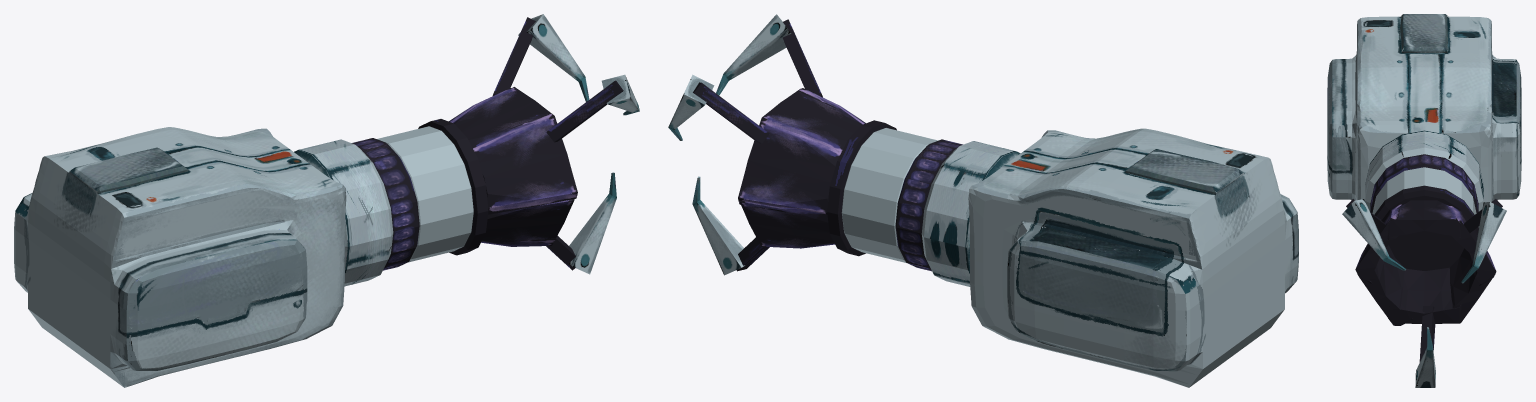
File: robot.fbx
3 views of the same model, side by side, from view 1: azimuth 30°, elevation 25°; view 2: azimuth 150°, elevation 25°; view 3: azimuth 270°, elevation 25° (orthographic). The views are drawn at different scales.
Visible parts, largest first — view 1: Cube, Cylinder.002, Plane.007, Cylinder, Cylinder.001, Plane.003, Plane.005, Cylinder.005, Cube.006, Cube.002, claw.001, claw (+1 smaller); view 2: Cube, Cylinder.002, Cylinder, Plane.004, Cylinder.001, Plane.003, Plane.006, Cylinder.005, Cube.005, Cube.006, claw, Cube.002 (+1 smaller); view 3: Cube, Cylinder.005, Cylinder, Plane.008, Plane.003, Cylinder.002, Plane.005, Cylinder.001, Plane.006, Cube.005, Cube.002, Plane.004 (+4 smaller).
Boxes of the visible parts, x1,y1,x2,y2 form: Cube: (14, 127, 346, 387); Cylinder.002: (377, 126, 473, 262); Plane.007: (473, 113, 577, 214); Cylinder: (294, 139, 393, 286); Cylinder.001: (351, 138, 419, 270); Plane.003: (453, 87, 557, 148); Plane.005: (481, 199, 574, 246); Cylinder.005: (418, 119, 488, 255); Cube.006: (569, 172, 616, 274); Cube.002: (518, 14, 589, 101); claw.001: (546, 80, 623, 142); claw: (492, 17, 535, 95); Cube: (968, 128, 1298, 387); Cylinder.002: (841, 128, 937, 262); Cylinder: (921, 141, 1020, 286); Plane.004: (738, 121, 841, 214); Cylinder.001: (895, 139, 962, 271); Plane.003: (760, 88, 862, 152); Plane.006: (739, 200, 834, 248); Cylinder.005: (827, 120, 896, 256); Cube.005: (716, 14, 791, 95); Cube.006: (692, 176, 744, 275); claw: (693, 82, 769, 143); Cube.002: (668, 74, 714, 140); Cube: (1327, 14, 1521, 227); Cylinder.005: (1374, 185, 1478, 270); Cylinder: (1365, 130, 1483, 211); Plane.008: (1388, 267, 1461, 323); Plane.003: (1387, 200, 1461, 240); Cylinder.002: (1372, 167, 1476, 214); Plane.005: (1358, 245, 1412, 325); Cylinder.001: (1370, 154, 1478, 212); Plane.006: (1449, 248, 1495, 323); Cube.005: (1342, 199, 1405, 270); Cube.002: (1461, 202, 1506, 283); Plane.004: (1449, 205, 1496, 285).
Size of the model in its own units: 350 by 139 by 131.
6 materials, 5 textured.
